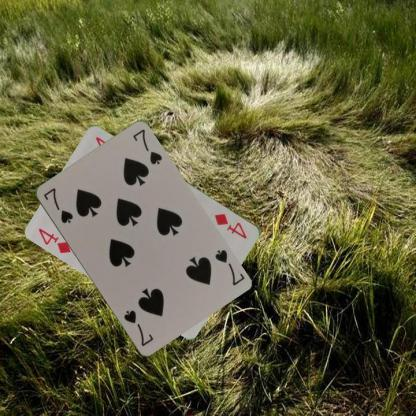4d: (212, 210, 249, 240), (36, 225, 73, 255)
7s: (41, 185, 74, 225), (212, 247, 245, 287)
